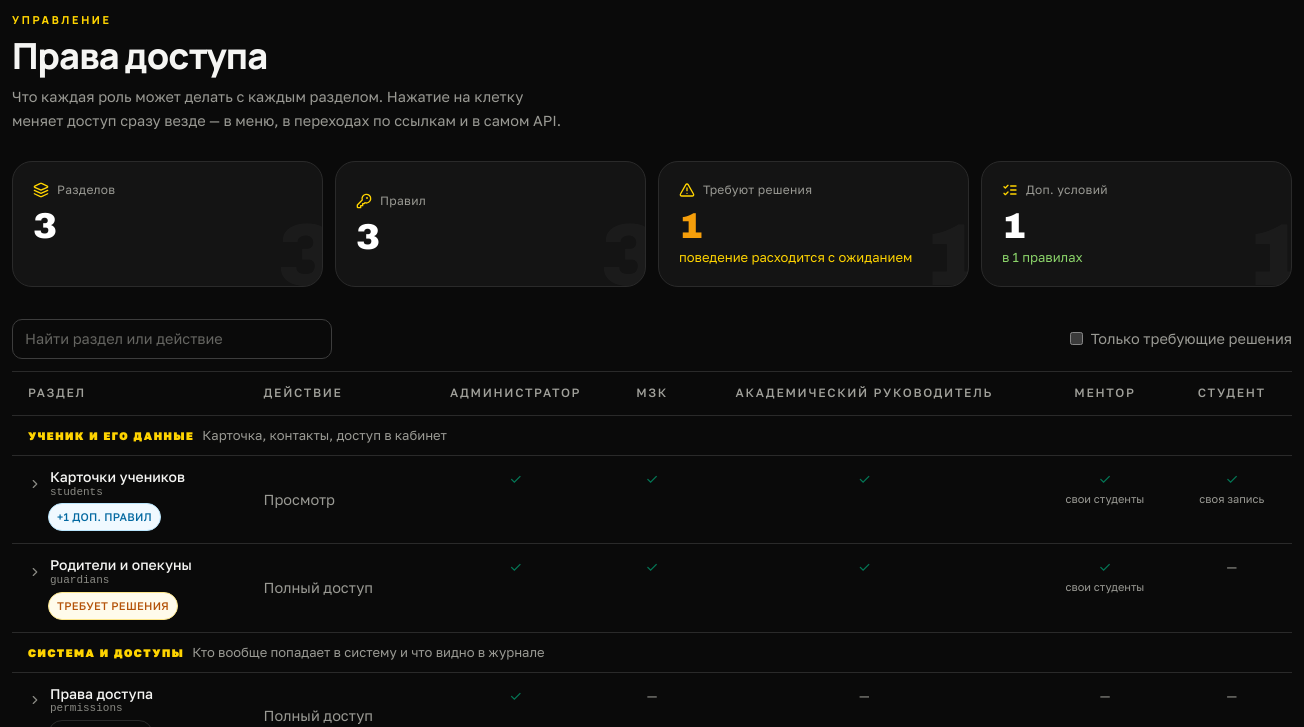
Test case: матрица прав › ищет по названию раздела
The width and height of the screenshot is (1304, 727).
Expected: the text "students" is shown, [50, 486, 103, 498]
Type "guard" into the field with placeholder "Найти раздел или действие". click: (172, 338)
box: [12, 318, 332, 358]
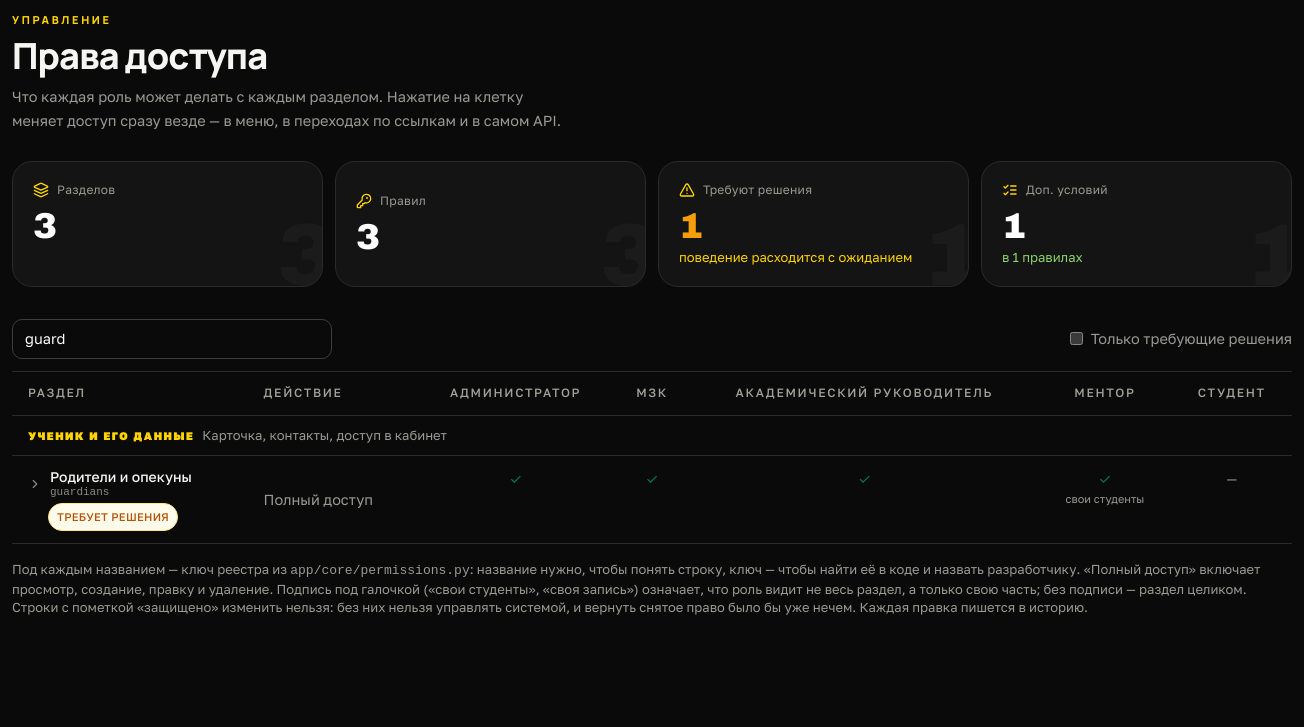
Expected: the text "guardians" is shown, [50, 486, 109, 498]
Now the text "students" is gone
